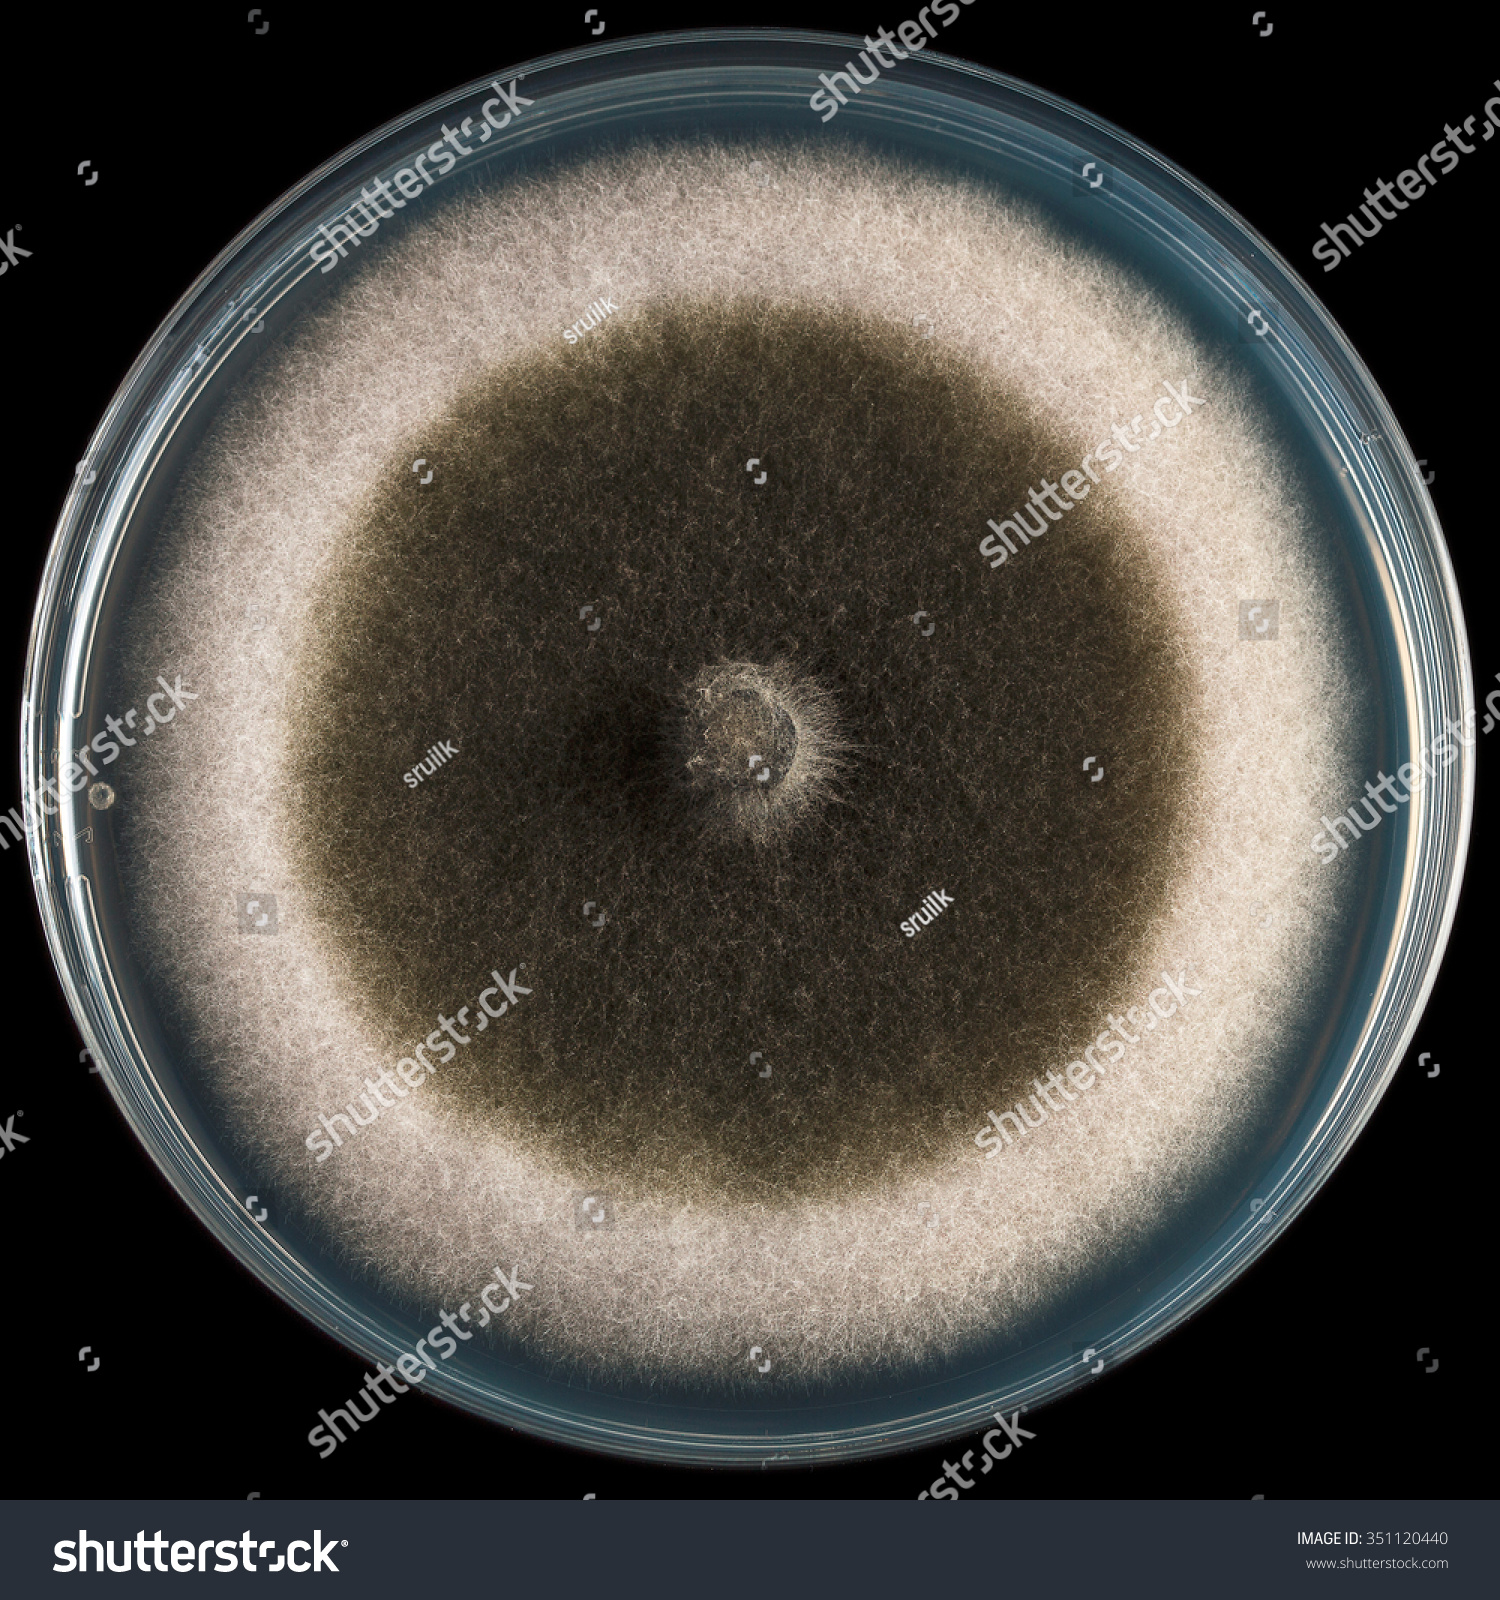Alternaria: (306, 283, 1143, 1212)
